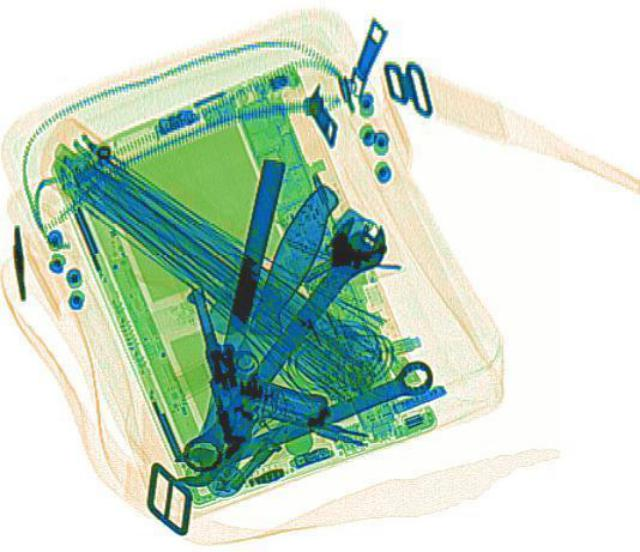Gun: (184, 269, 332, 444)
Knife: (198, 179, 342, 438), (196, 156, 284, 446)
Wrench: (166, 211, 398, 478), (163, 355, 441, 488)
